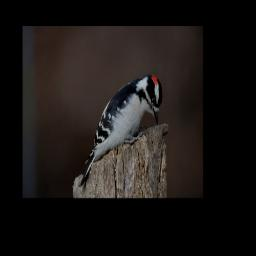Woodpecker: (77, 72, 164, 189)
